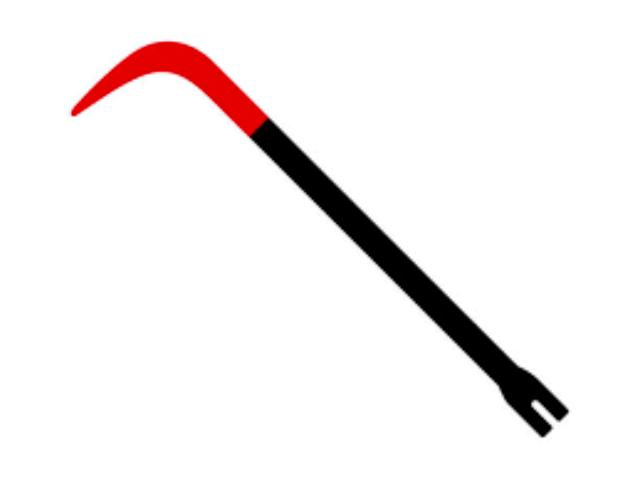crow bar: (55, 30, 581, 446)
